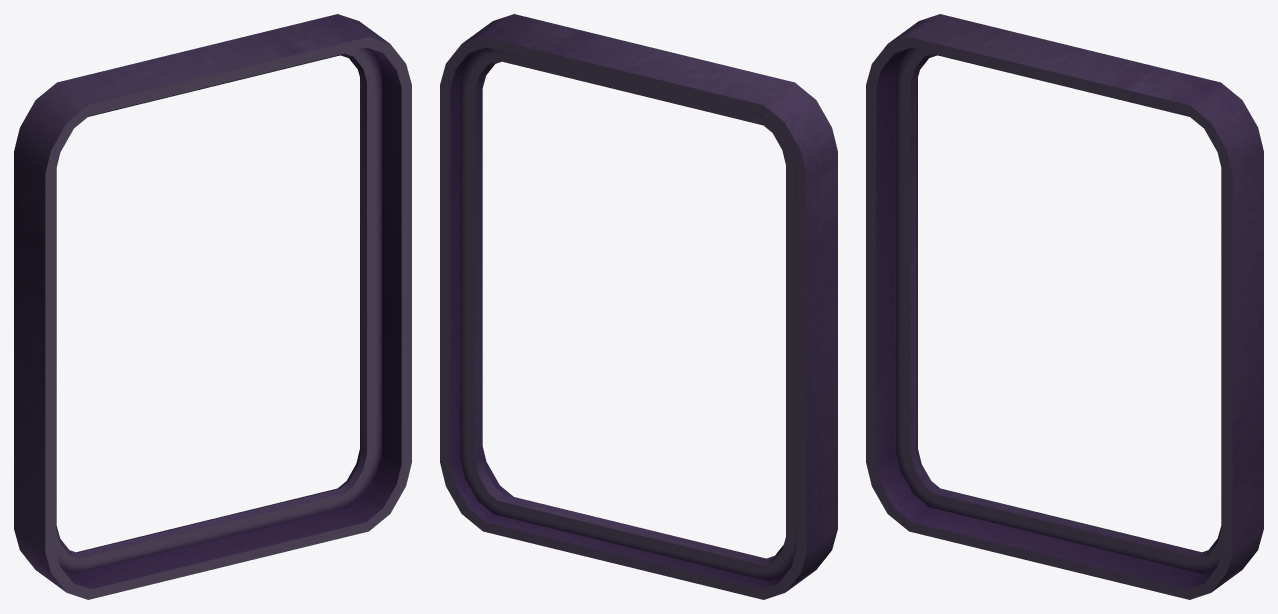
Rendered from startship_window.glb.
3 views of the same model, side by side, from view 1: azimuth 30°, elevation 25°; view 2: azimuth 150°, elevation 25°; view 3: azimuth 330°, elevation 25° (orthographic).
Visible parts, largest first — view 1: Corridor_Window.001; view 2: Corridor_Window.001; view 3: Corridor_Window.001.
Part boxes in pixels (bbox=[...]): Corridor_Window.001: bbox=[14, 14, 411, 599]; Corridor_Window.001: bbox=[440, 14, 837, 599]; Corridor_Window.001: bbox=[866, 14, 1263, 599].
Bounding box in the file's own units: 1.1 × 1.42 × 0.1624.
1 material, 1 textured.
